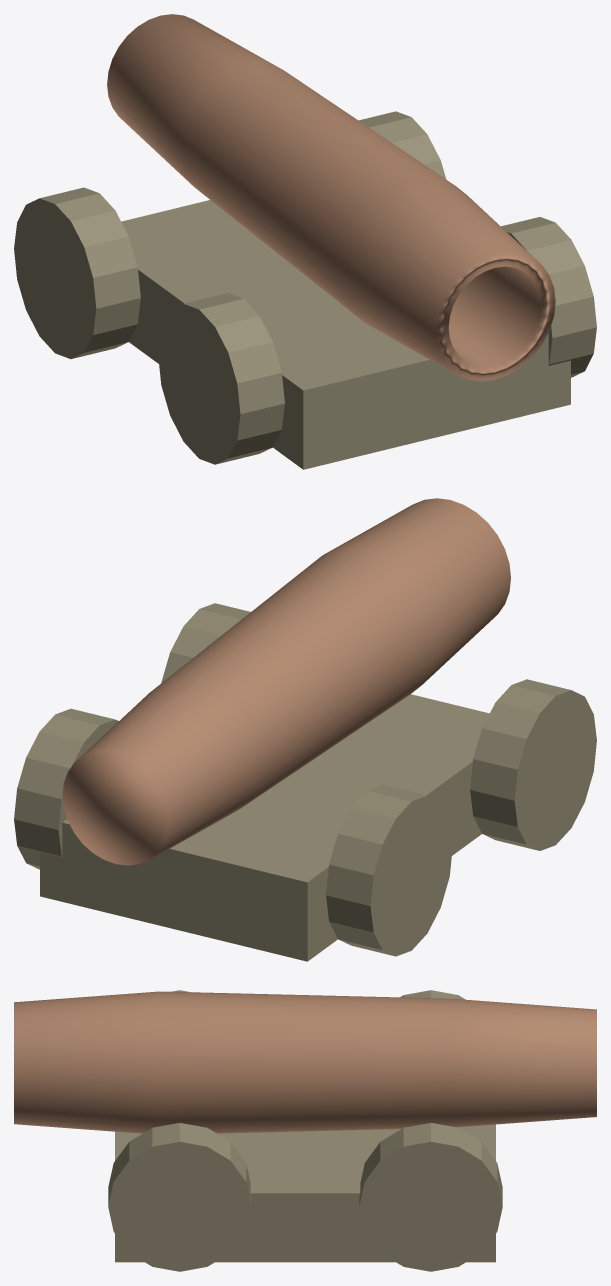
File: underwater-reef-worlds-deck-cannon-56bf4ebc__7063.glb
The picture shows the model from 3 angles, top to bottom: view 1: azimuth 30°, elevation 25°; view 2: azimuth 150°, elevation 25°; view 3: azimuth 270°, elevation 25°; orthographic projection. The views are drawn at different scales.
Parts seen in each view (by area): view 1: deck-cannon; view 2: deck-cannon; view 3: deck-cannon.
Part boxes in pixels (x1=…): deck-cannon: x1=14, y1=14, x2=596, y2=469; deck-cannon: x1=14, y1=498, x2=596, y2=961; deck-cannon: x1=14, y1=990, x2=596, y2=1271.
Size of the model in its own units: 0.8 by 0.51 by 1.3.
